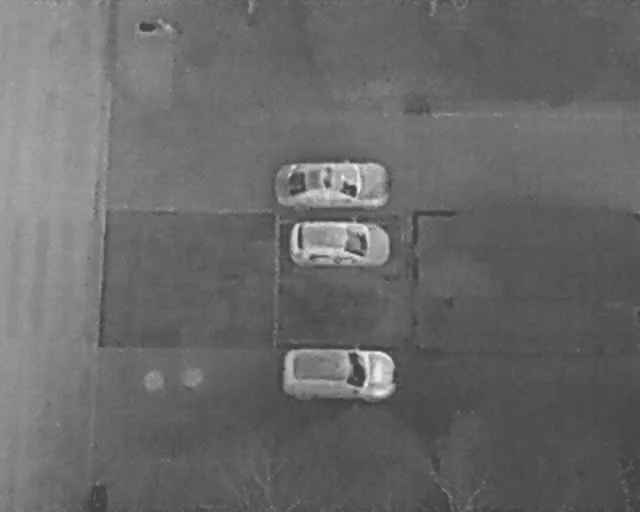Bicycle: (136, 17, 181, 35)
Car: (280, 345, 398, 403), (271, 160, 392, 209), (288, 218, 392, 267)
